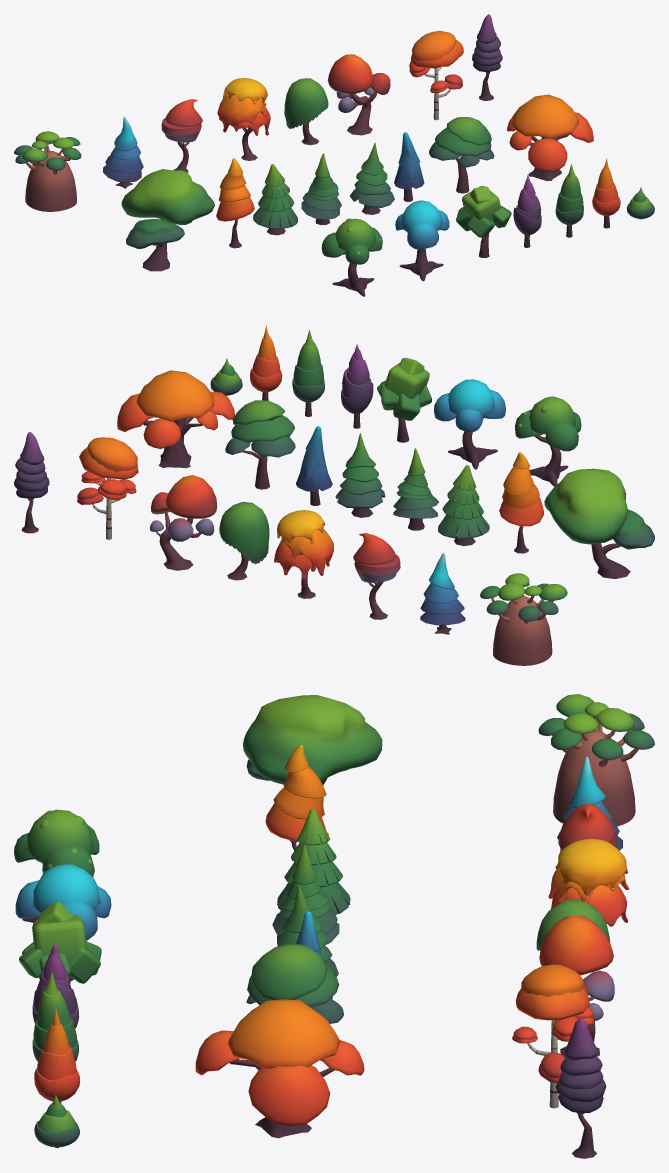
File: Trees_Pack_01.fbx
3 renders of one model, top to bottom at view 1: azimuth 30°, elevation 25°; view 2: azimuth 150°, elevation 25°; view 3: azimuth 270°, elevation 25°, orthographic. The views are drawn at different scales.
Visible parts, largest first — view 1: Tree.026, Tree.006, Tree.027, Tree.019, Tree.007, Tree.017, Tree.013, Tree.021, Tree.012, Tree.005, Tree.010, Tree.018 (+11 smaller); view 2: Tree.026, Tree.006, Tree.027, Tree.019, Tree.021, Tree.007, Tree.012, Tree.017, Tree.013, Tree.005, Tree.018, Tree.010 (+11 smaller); view 3: Tree.006, Tree.026, Tree.027, Tree.021, Tree.017, Tree.007, Tree.019, Tree.012, Tree.005, Tree.013, Tree.020, Tree.014 (+10 smaller).
Boxes of the visible parts, x1=… form: Tree.026: x1=121, y1=169, x2=214, y2=271; Tree.006: x1=507, y1=94, x2=593, y2=181; Tree.027: x1=14, y1=131, x2=81, y2=211; Tree.019: x1=327, y1=54, x2=390, y2=135; Tree.007: x1=429, y1=117, x2=494, y2=193; Tree.017: x1=217, y1=78, x2=270, y2=160; Tree.013: x1=321, y1=218, x2=382, y2=296; Tree.021: x1=409, y1=30, x2=463, y2=120; Tree.012: x1=395, y1=200, x2=449, y2=281; Tree.005: x1=456, y1=186, x2=511, y2=257; Tree.010: x1=253, y1=164, x2=297, y2=235; Tree.018: x1=284, y1=78, x2=328, y2=145; Tree.026: x1=544, y1=468, x2=654, y2=578; Tree.006: x1=117, y1=370, x2=234, y2=468; Tree.027: x1=480, y1=573, x2=567, y2=665; Tree.019: x1=150, y1=475, x2=217, y2=570; Tree.021: x1=77, y1=437, x2=138, y2=539; Tree.007: x1=225, y1=400, x2=295, y2=489; Tree.012: x1=434, y1=379, x2=505, y2=469; Tree.017: x1=274, y1=510, x2=333, y2=598; Tree.013: x1=514, y1=396, x2=581, y2=486; Tree.005: x1=377, y1=357, x2=431, y2=442; Tree.018: x1=219, y1=501, x2=269, y2=580; Tree.010: x1=437, y1=465, x2=489, y2=545; Tree.006: x1=195, y1=999, x2=364, y2=1138; Tree.026: x1=243, y1=695, x2=382, y2=785; Tree.027: x1=538, y1=694, x2=654, y2=826; Tree.021: x1=512, y1=964, x2=594, y2=1108; Tree.017: x1=548, y1=839, x2=629, y2=926; Tree.007: x1=246, y1=944, x2=343, y2=1023; Tree.019: x1=539, y1=916, x2=614, y2=1057; Tree.012: x1=15, y1=864, x2=111, y2=981; Tree.005: x1=19, y1=901, x2=101, y2=983; Tree.013: x1=14, y1=809, x2=99, y2=922; Tree.020: x1=555, y1=1018, x2=606, y2=1158; Tree.014: x1=265, y1=745, x2=328, y2=884.
Bounding box in the file's own units: 3886 × 671 × 2787.
